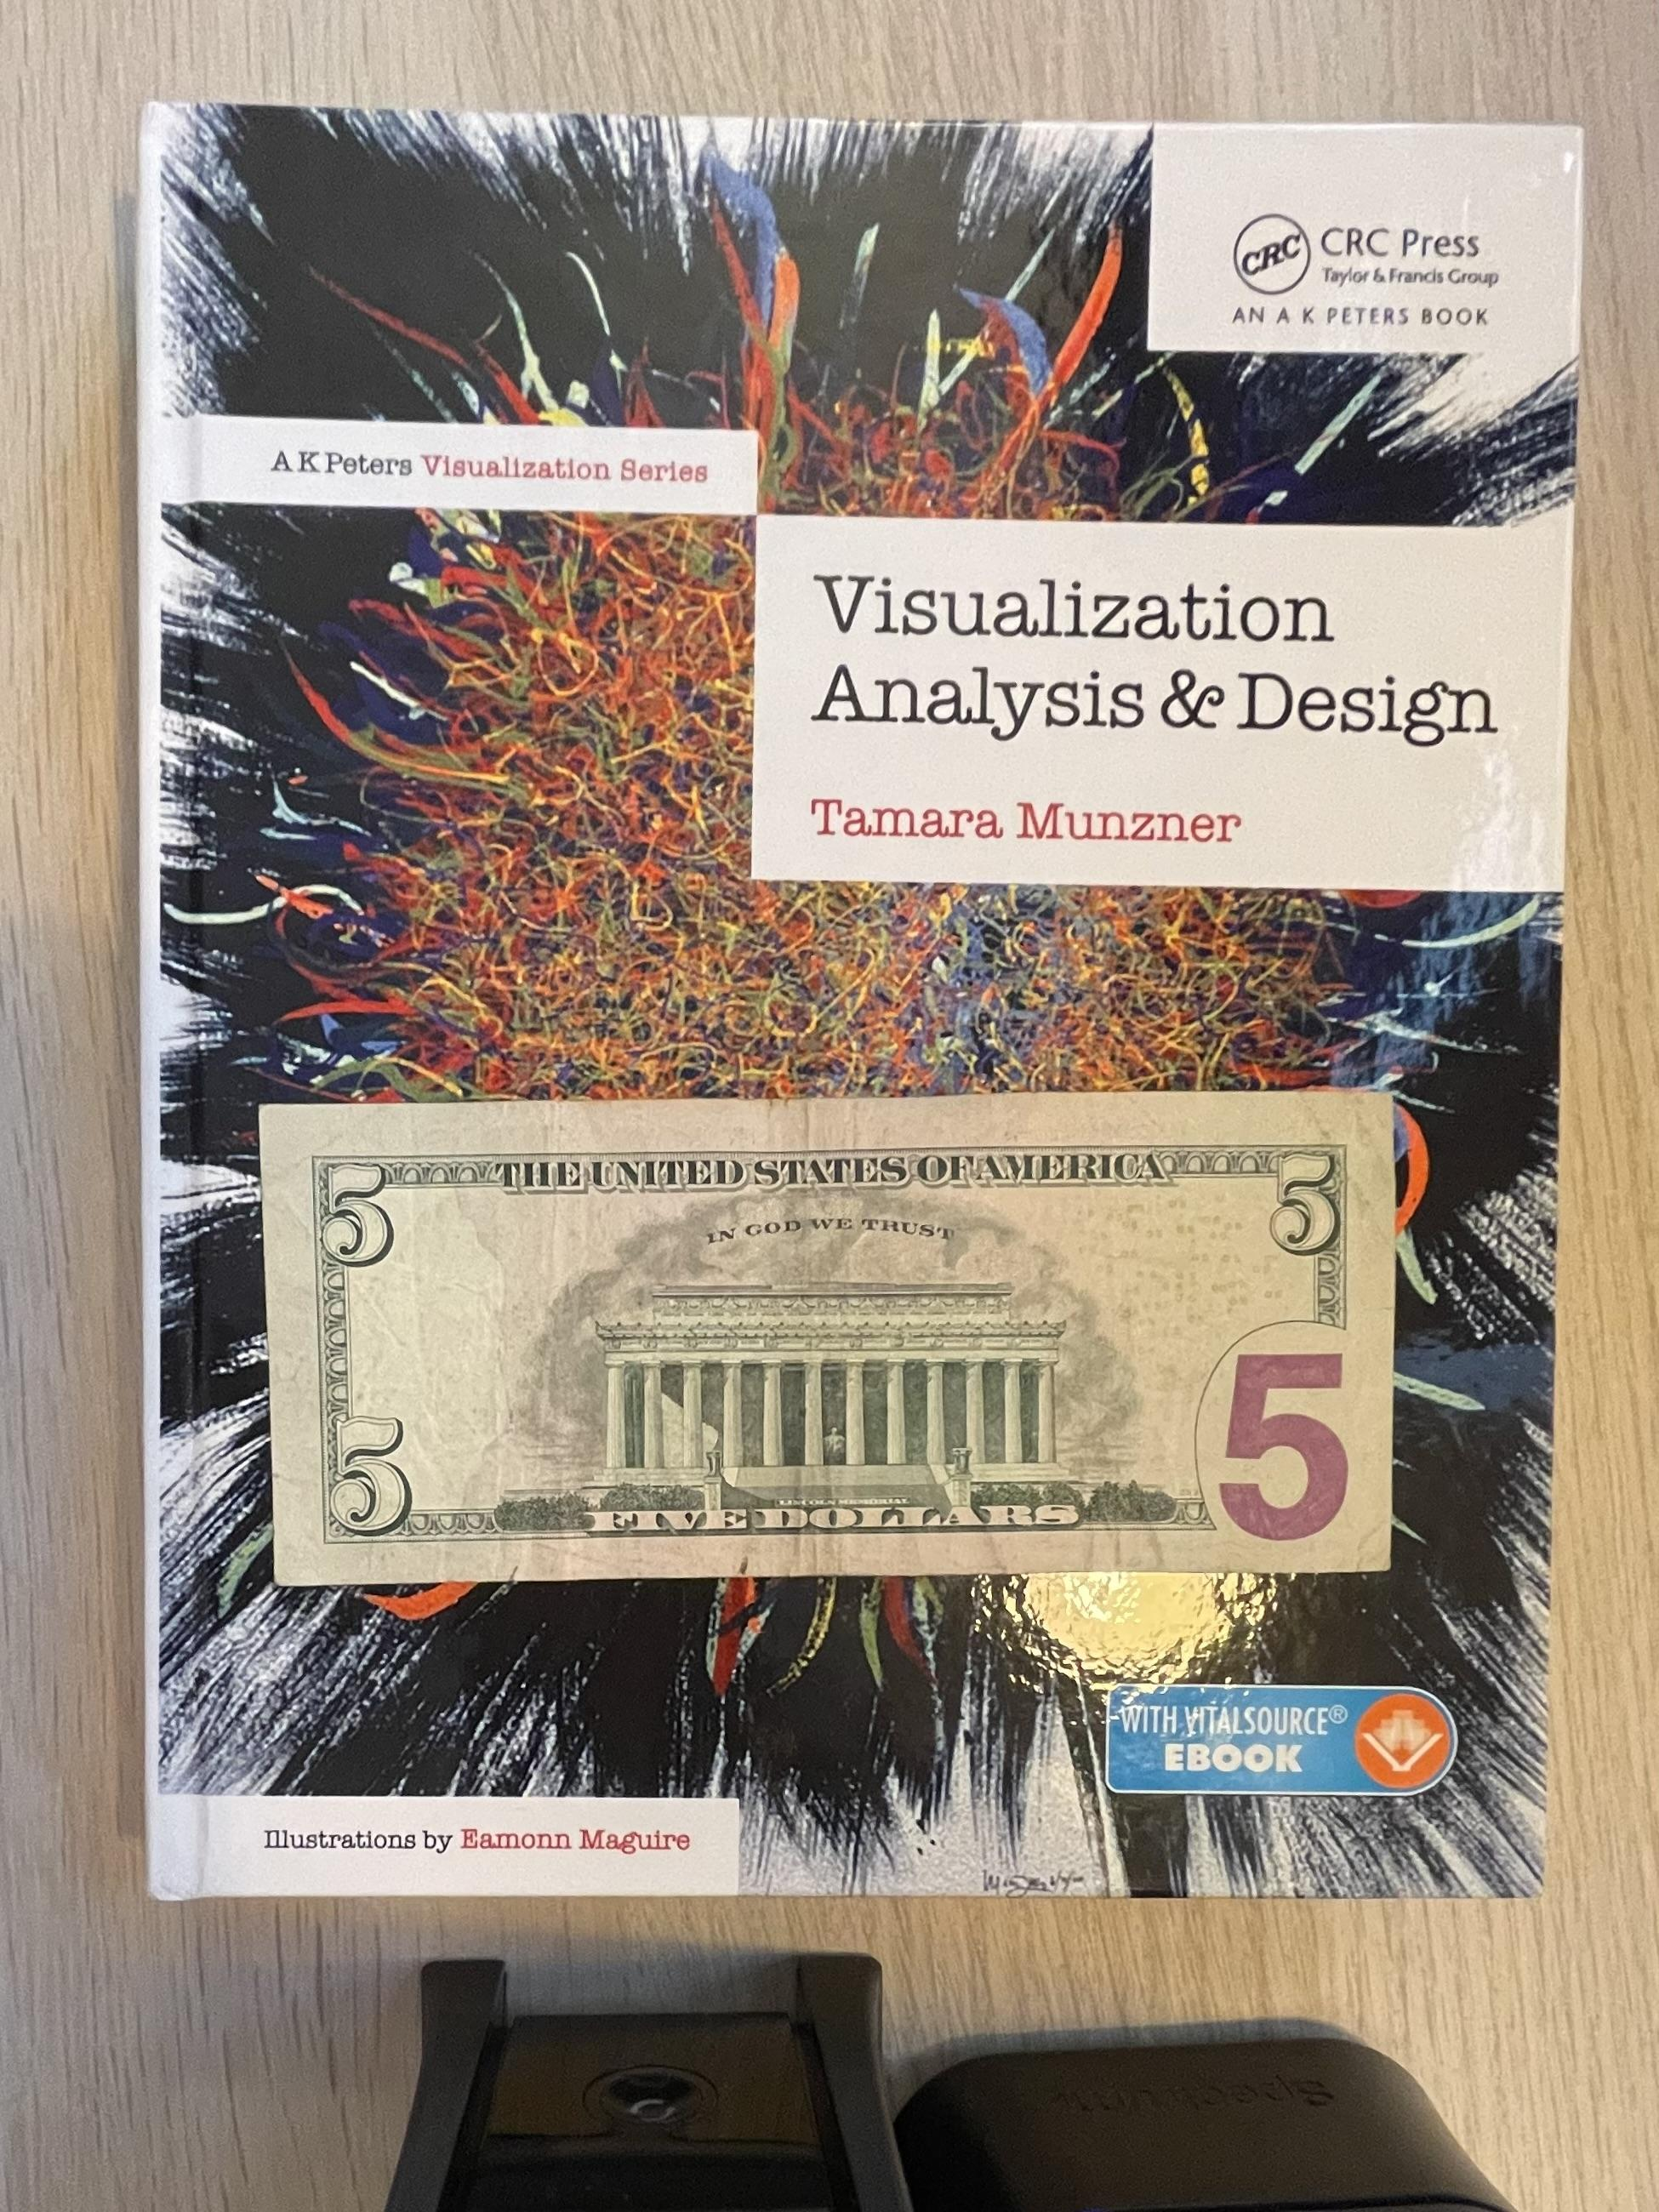FiveBill: (256, 1089, 1398, 1588)
